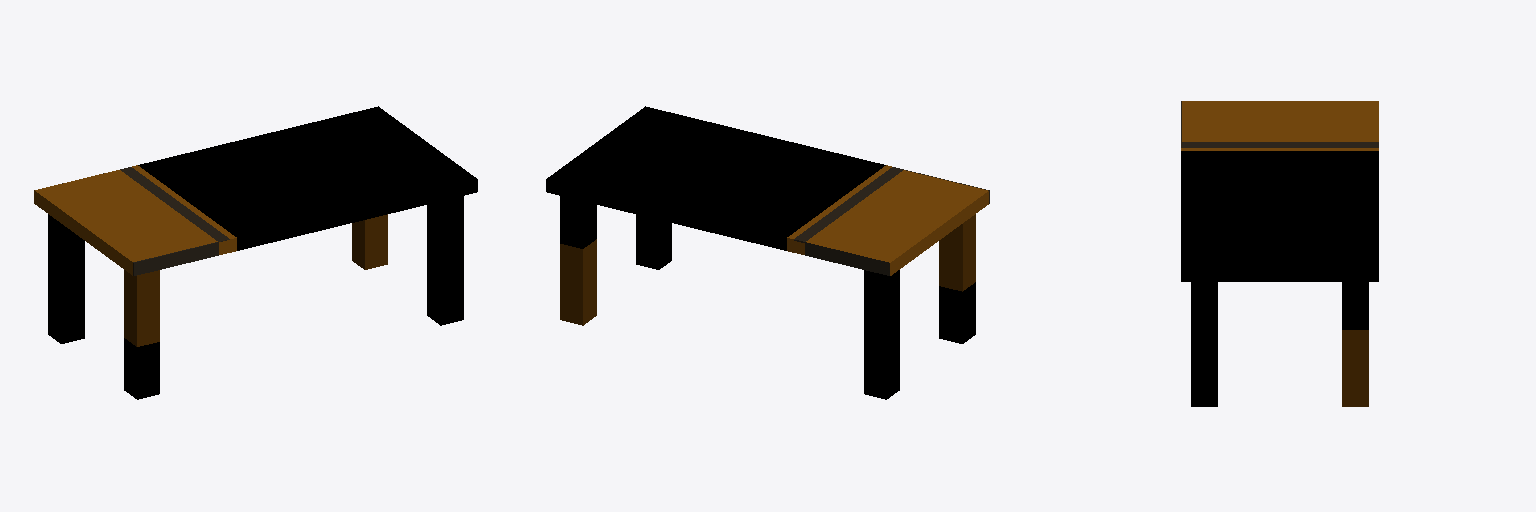
3 views of the same model, side by side, from view 1: azimuth 30°, elevation 25°; view 2: azimuth 150°, elevation 25°; view 3: azimuth 270°, elevation 25° (orthographic).
Visible parts, largest first — view 1: pCube1; view 2: pCube1; view 3: pCube1.
Part boxes in pixels (bbox=[...]): pCube1: bbox=[34, 106, 477, 399]; pCube1: bbox=[546, 106, 989, 399]; pCube1: bbox=[1181, 101, 1378, 406].
Size of the model in its own units: 2 by 0.7938 by 1.
1 materials, 1 textured.